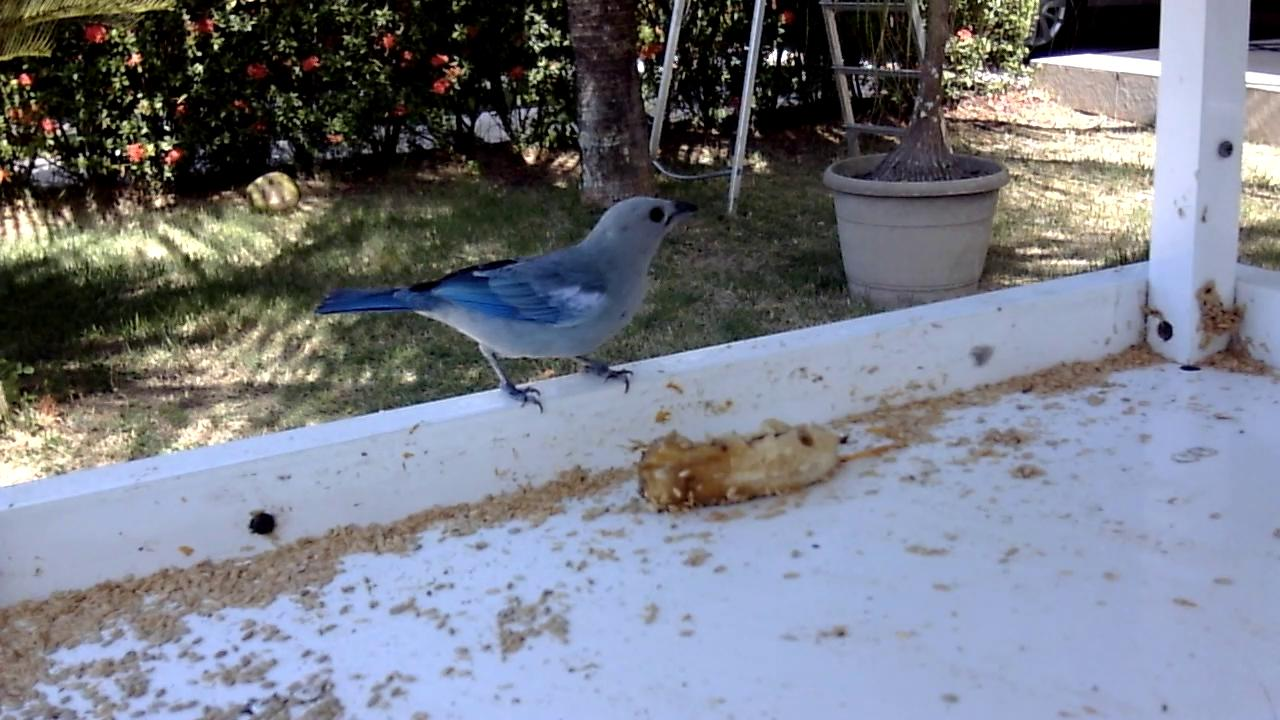sanhaco_da_amazonia: (315, 194, 704, 417)
